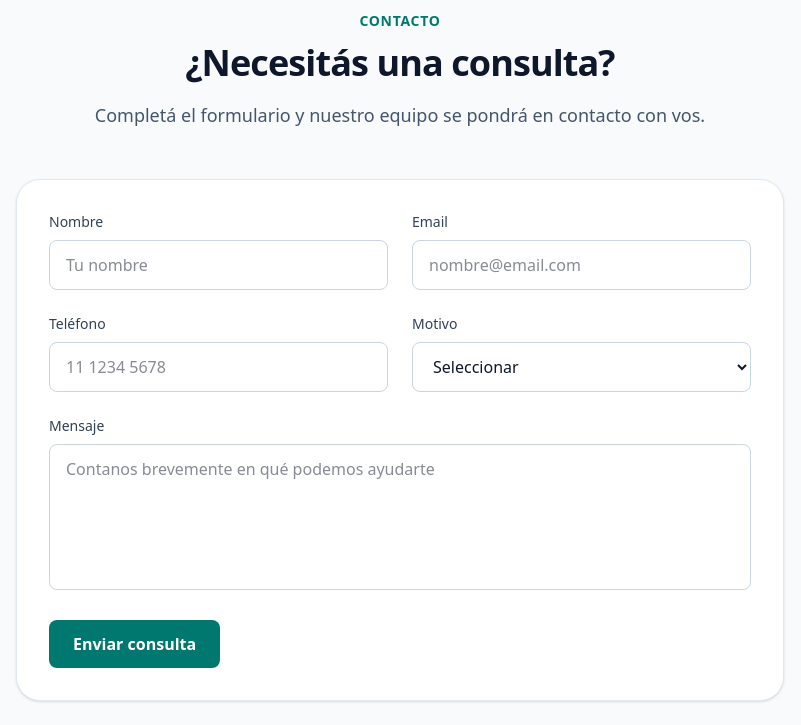
Scenario: Contact › does not submit when the name is too short
Step 1. Type "J" into the field labelled "Nombre" → (218, 265), box [49, 240, 388, 290]
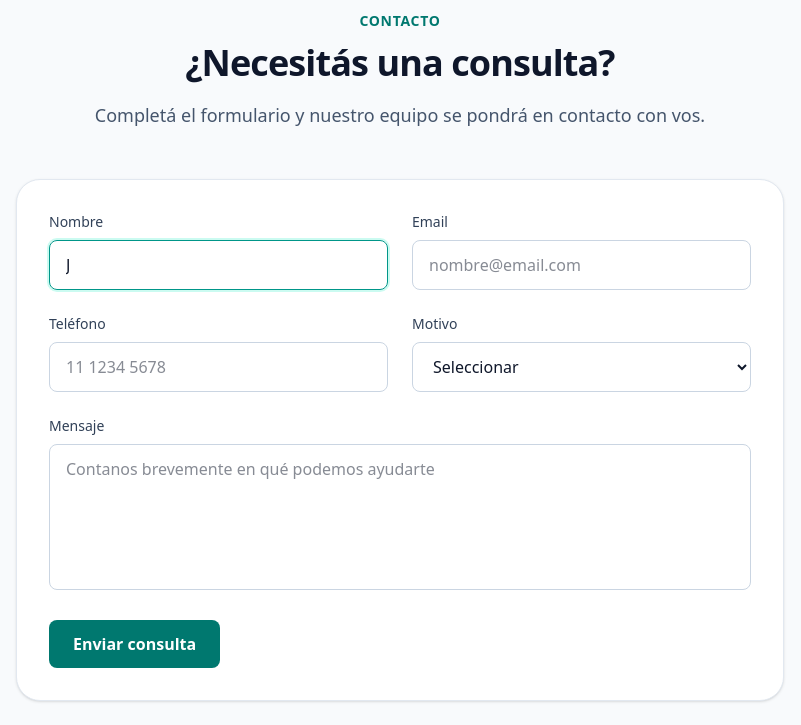
Step 2. Type "juan@email.com" into the field labelled "Email" → (582, 265), box [412, 240, 751, 290]
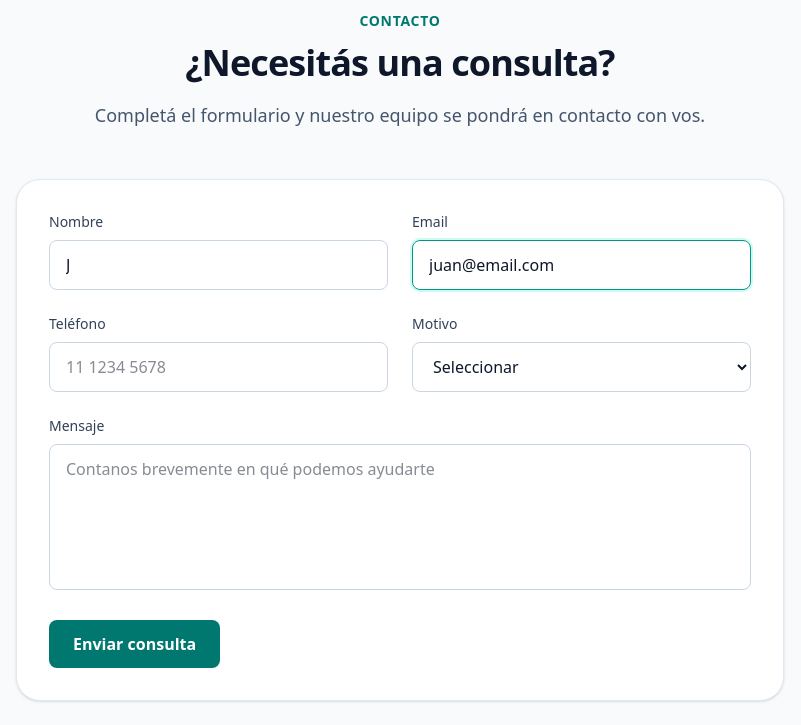
Step 3. Type "1122334455" into the field labelled "Teléfono" → (218, 367), box [49, 342, 388, 392]
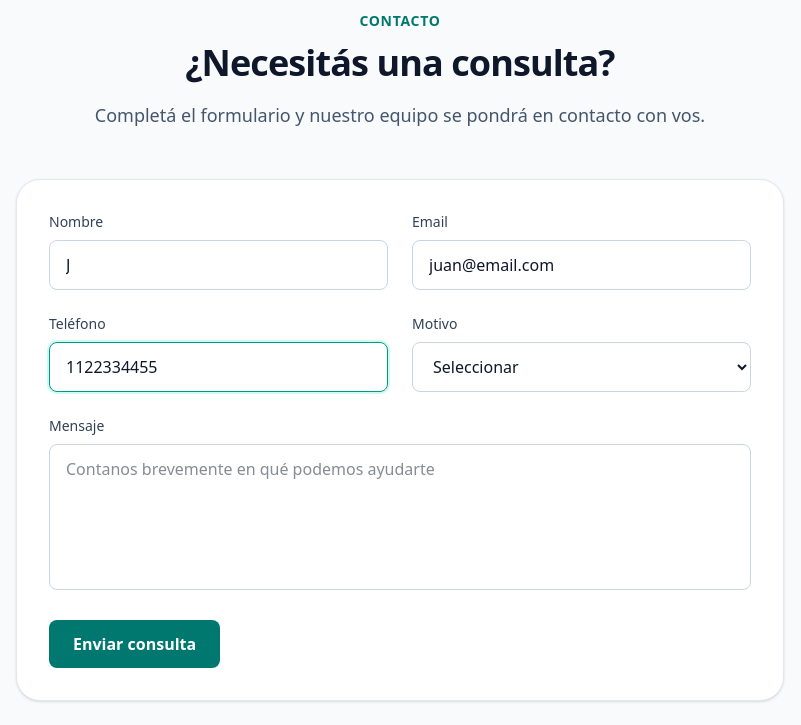
Step 4. Select "Consulta general" in the dropdown labelled "Motivo" → (582, 367), box [412, 342, 751, 392]
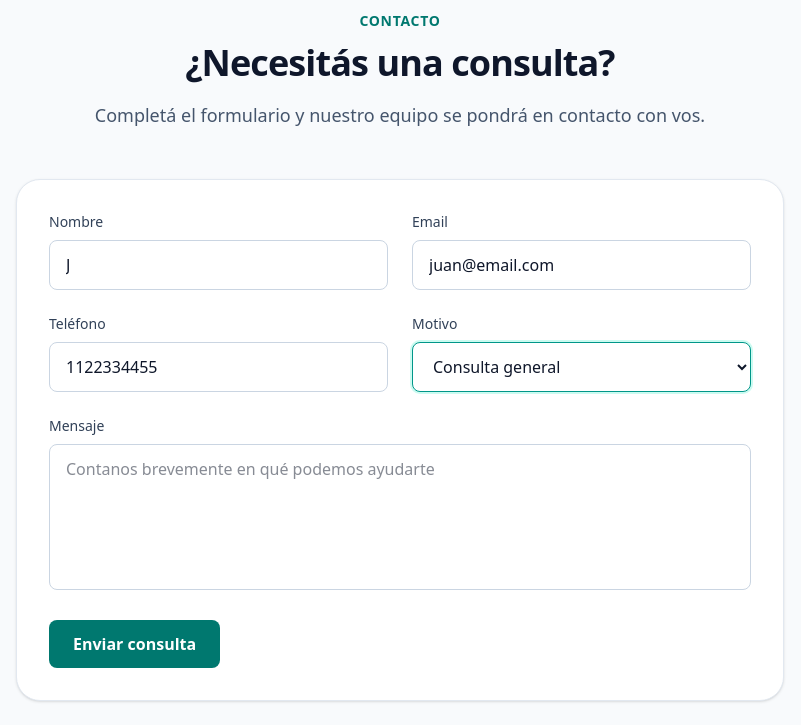
Step 5. Type "Necesito realizar una consulta veterinaria." into the text box labelled "Mensaje" → (400, 517), box [49, 444, 751, 590]
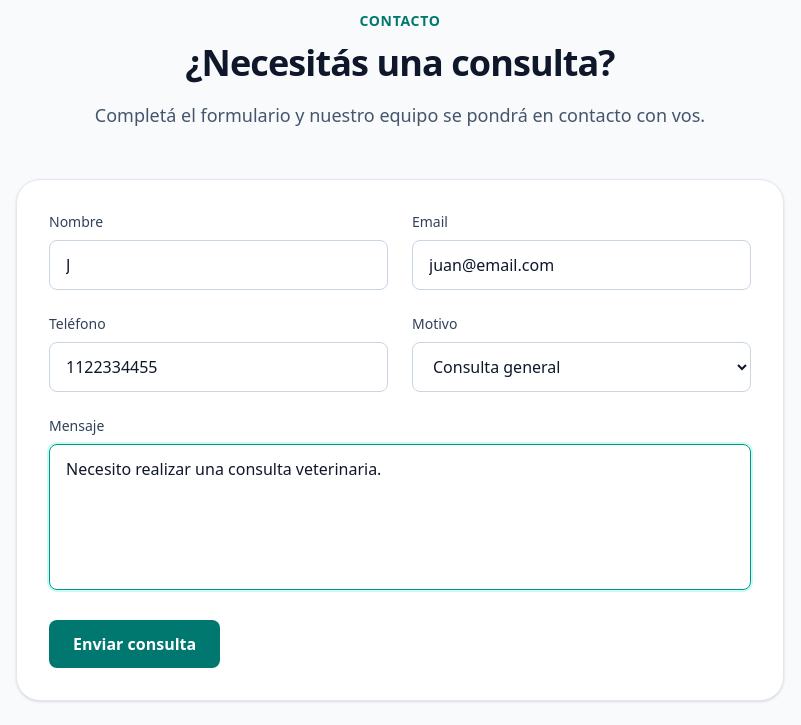
Step 6. Click the button "Enviar consulta" → (135, 644), box [49, 620, 220, 668]
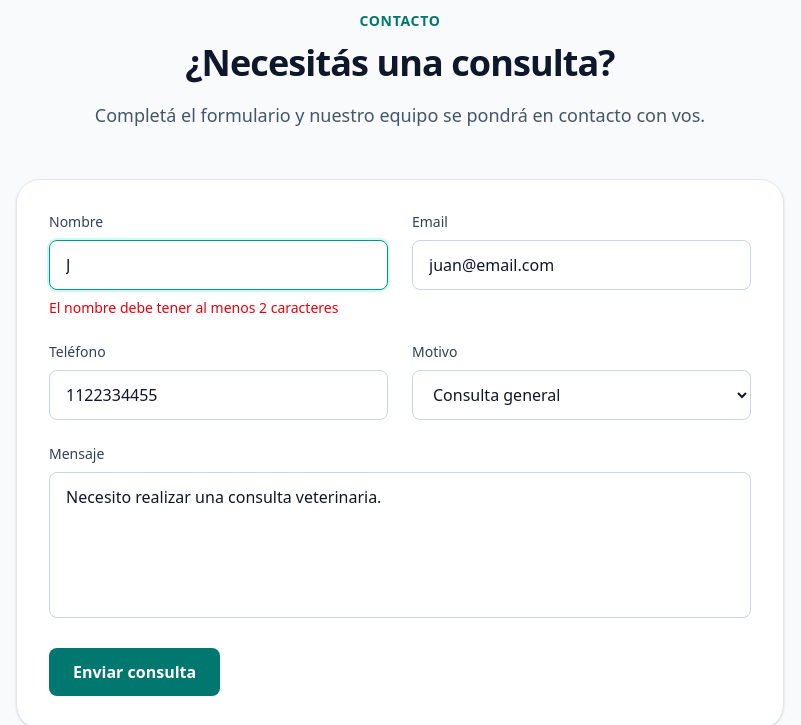
Check: the text "El nombre debe tener al menos 2 caracteres" is shown, box [49, 298, 388, 318]
